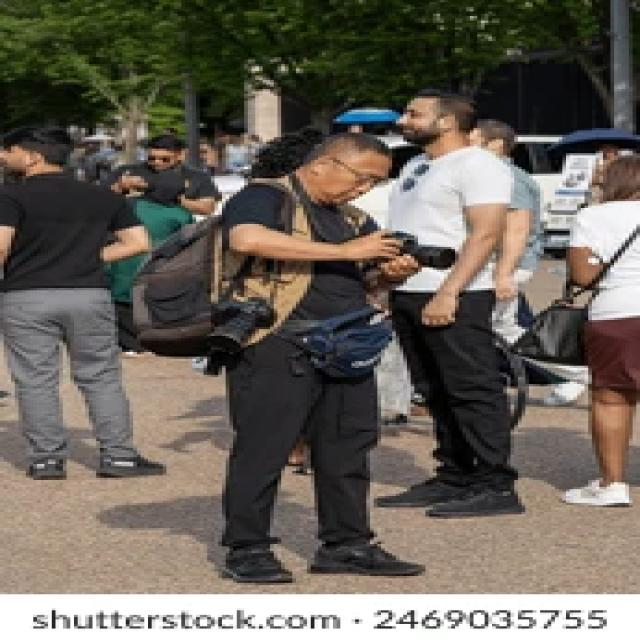nohelmet: (304, 131, 390, 209), (399, 91, 481, 148), (135, 135, 185, 174)
